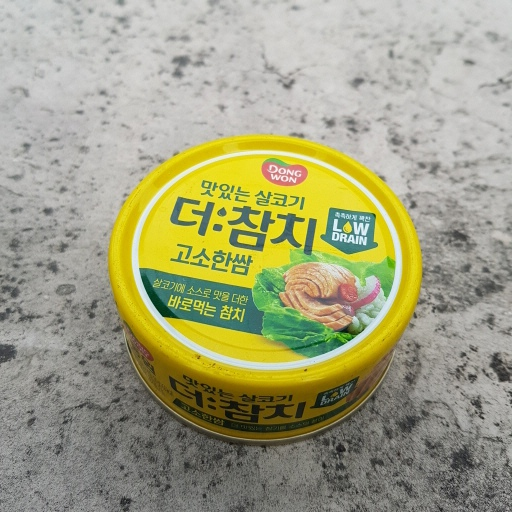Metal_1: (105, 133, 424, 444)
